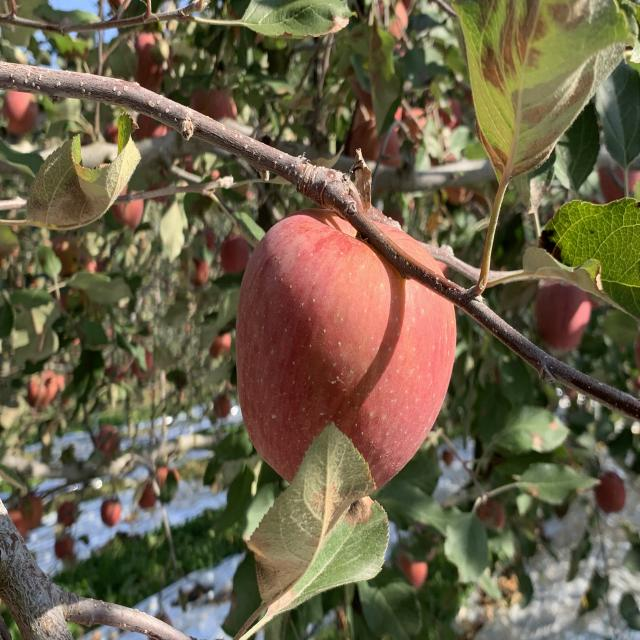fresh: (234, 201, 464, 522)
